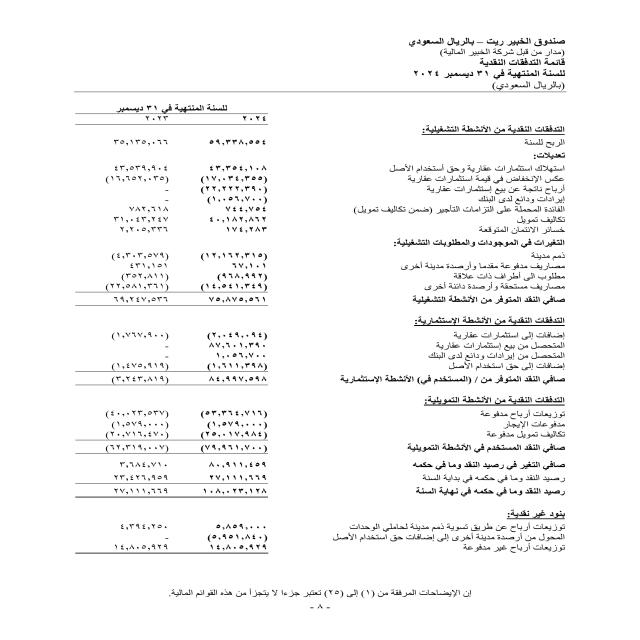financial_sheets: (471, 57, 580, 68)
table: (12, 104, 314, 582)
